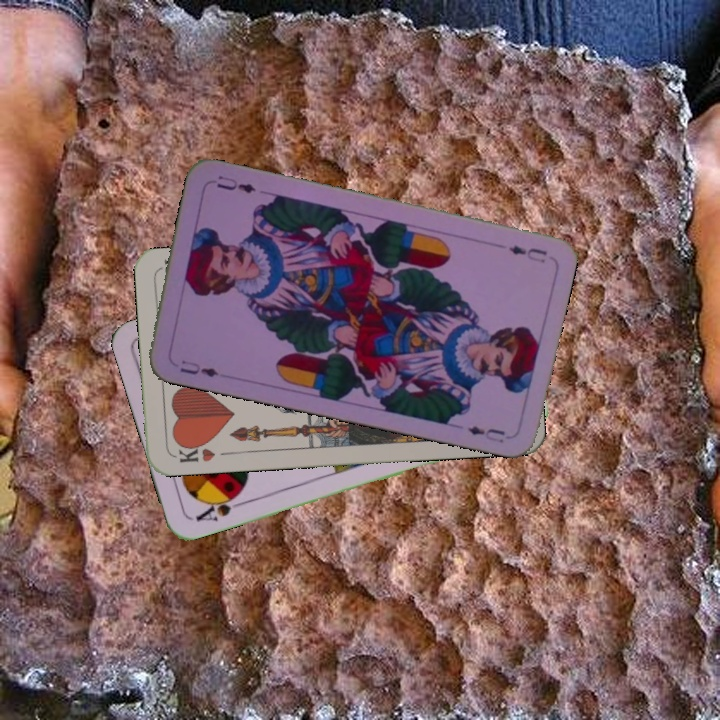EU: (505, 241, 550, 265), (176, 359, 221, 380)
HK: (170, 438, 218, 465)
SA: (191, 488, 248, 524)
